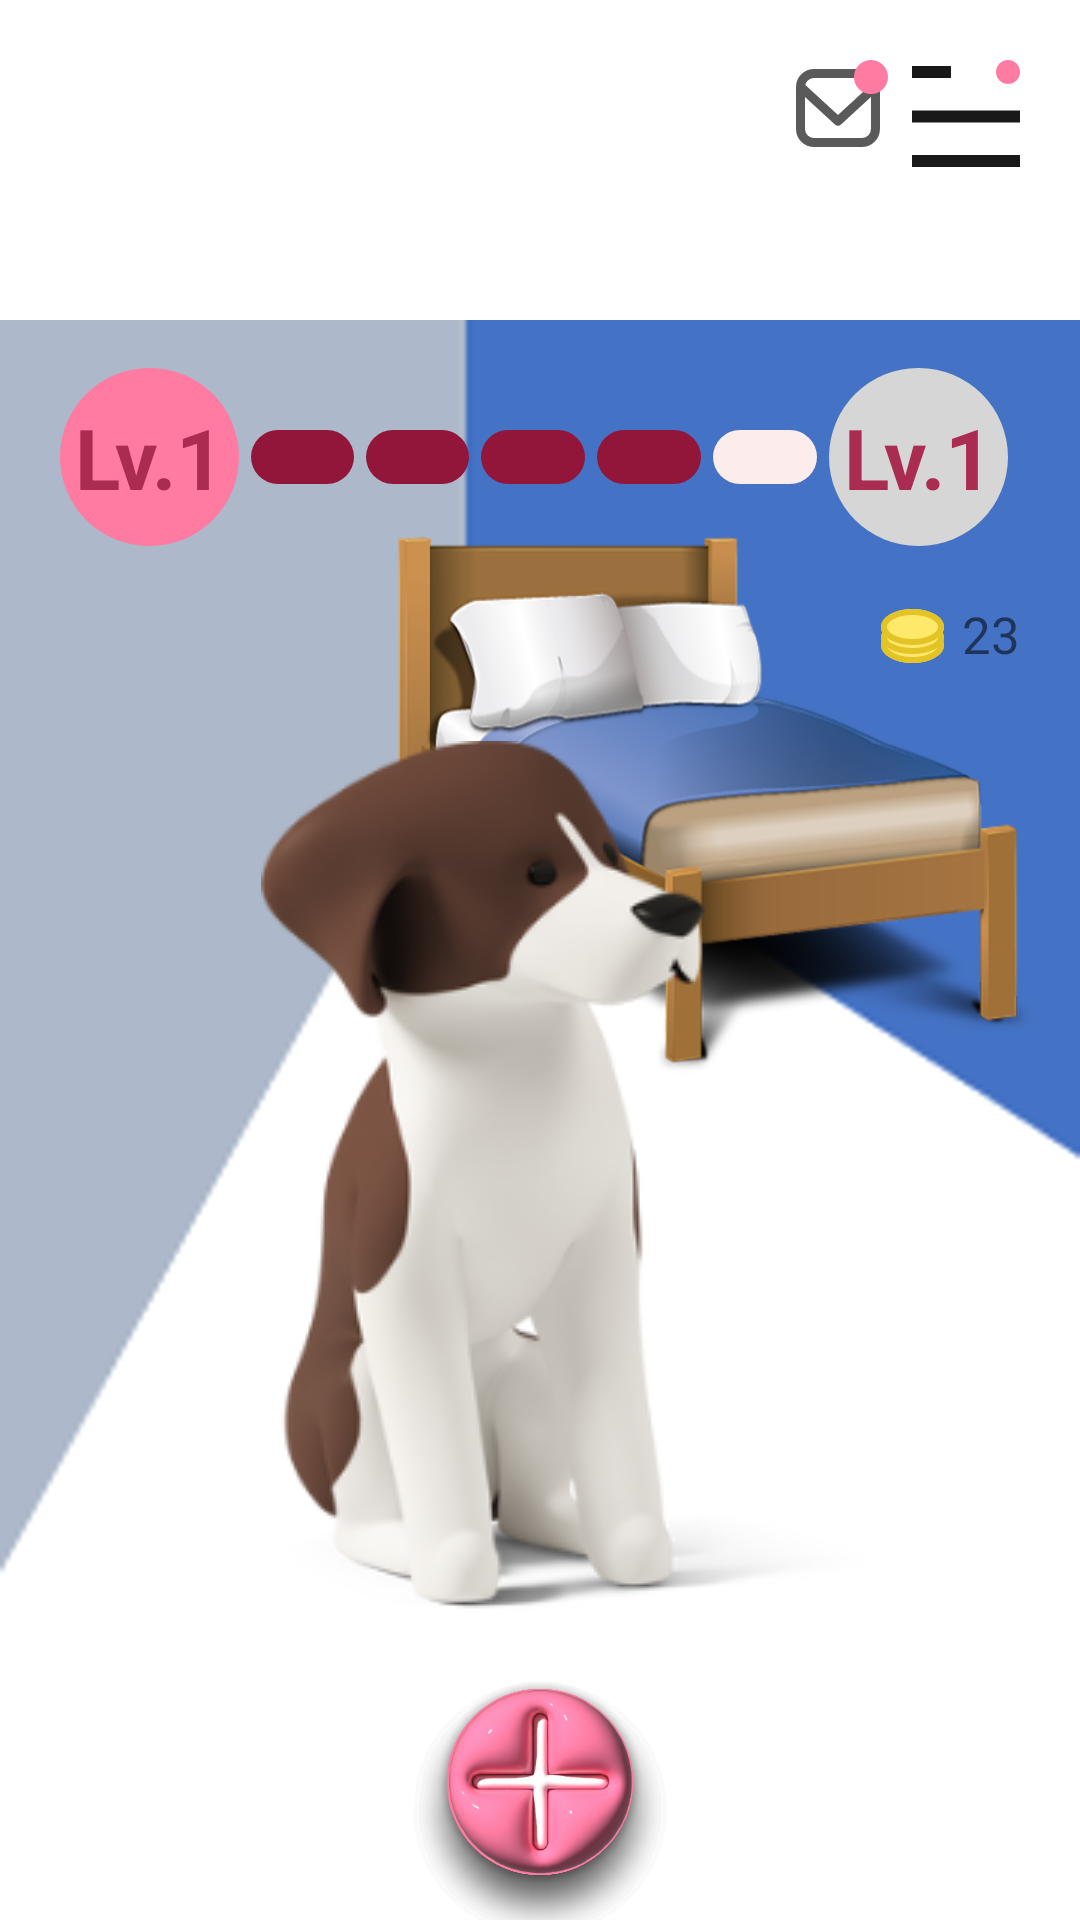

Where icons sit on this 1080 x 1920 app screen, as (x1, y1, x2, y2):
coin: (881, 609, 944, 663)
menu: (912, 60, 1020, 167)
